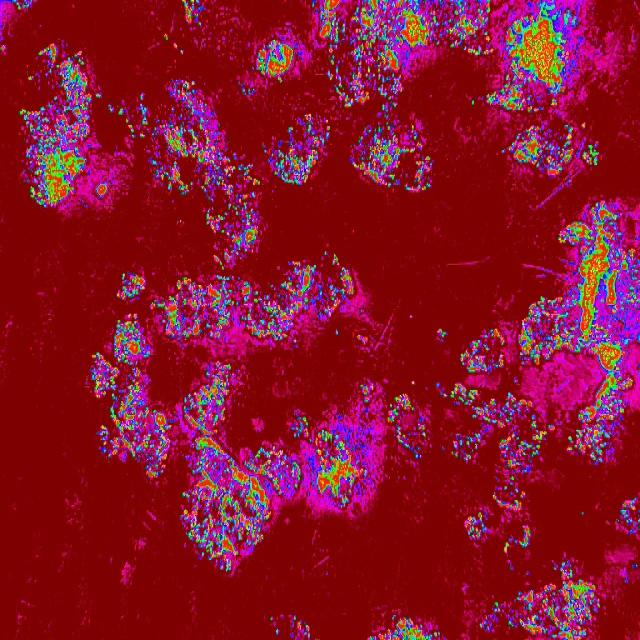fire: (178, 431, 270, 574), (556, 207, 640, 354), (19, 44, 92, 208), (308, 0, 492, 61), (151, 80, 230, 200), (498, 0, 578, 111), (175, 274, 274, 344), (274, 254, 352, 341), (350, 118, 433, 192), (109, 313, 150, 461), (505, 581, 601, 640), (310, 426, 371, 512), (270, 114, 332, 184), (500, 392, 549, 478), (326, 61, 402, 110), (183, 362, 234, 432), (204, 202, 256, 270), (509, 122, 573, 177), (564, 408, 626, 462), (515, 296, 557, 366), (448, 381, 499, 425), (592, 357, 634, 408), (461, 328, 507, 373), (252, 40, 296, 84), (368, 615, 442, 640), (270, 446, 300, 496), (230, 154, 261, 201), (395, 425, 428, 463), (616, 494, 640, 540), (150, 410, 172, 460), (451, 431, 484, 461), (88, 352, 108, 401), (387, 394, 416, 424), (494, 482, 525, 508), (158, 294, 176, 338), (116, 270, 142, 300), (578, 143, 602, 168), (464, 511, 487, 537), (180, 0, 202, 26), (290, 615, 311, 640), (138, 95, 150, 137), (290, 412, 308, 440), (143, 460, 165, 481), (95, 424, 108, 454), (554, 560, 574, 578), (95, 178, 112, 198), (360, 382, 372, 407), (518, 526, 530, 550), (10, 0, 33, 11), (478, 618, 496, 632), (356, 333, 374, 347), (238, 84, 256, 97), (125, 118, 134, 142), (484, 89, 498, 102), (435, 327, 447, 338), (106, 100, 115, 114), (502, 540, 510, 554), (149, 299, 157, 312), (492, 602, 501, 613), (116, 107, 125, 117), (162, 34, 170, 45), (0, 42, 6, 54), (175, 217, 182, 227), (470, 98, 478, 106), (274, 628, 282, 636), (268, 614, 274, 624), (177, 47, 184, 55), (499, 147, 506, 155), (95, 91, 101, 100), (442, 392, 448, 400), (632, 562, 640, 568), (434, 381, 439, 389), (410, 379, 416, 385), (580, 509, 584, 517)
